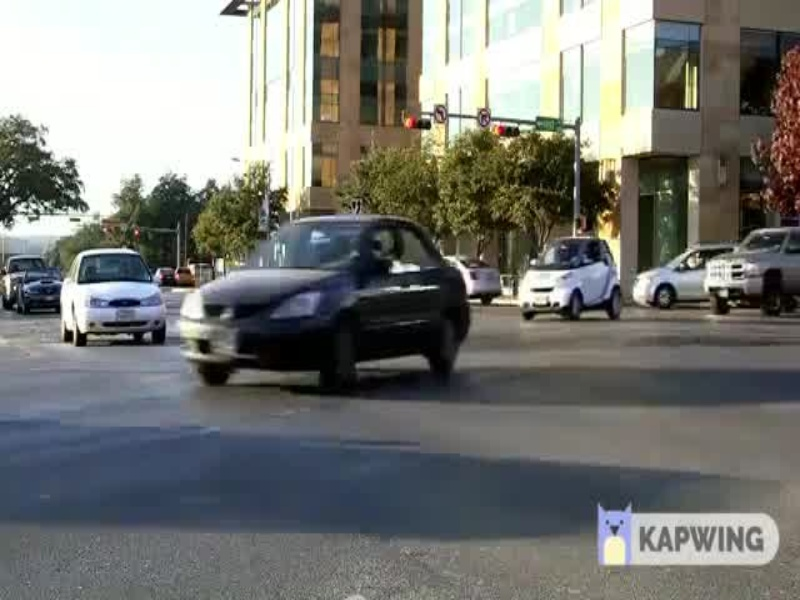car: (184, 217, 472, 390), (64, 242, 166, 352), (512, 232, 622, 323)
truck: (701, 224, 800, 316)
